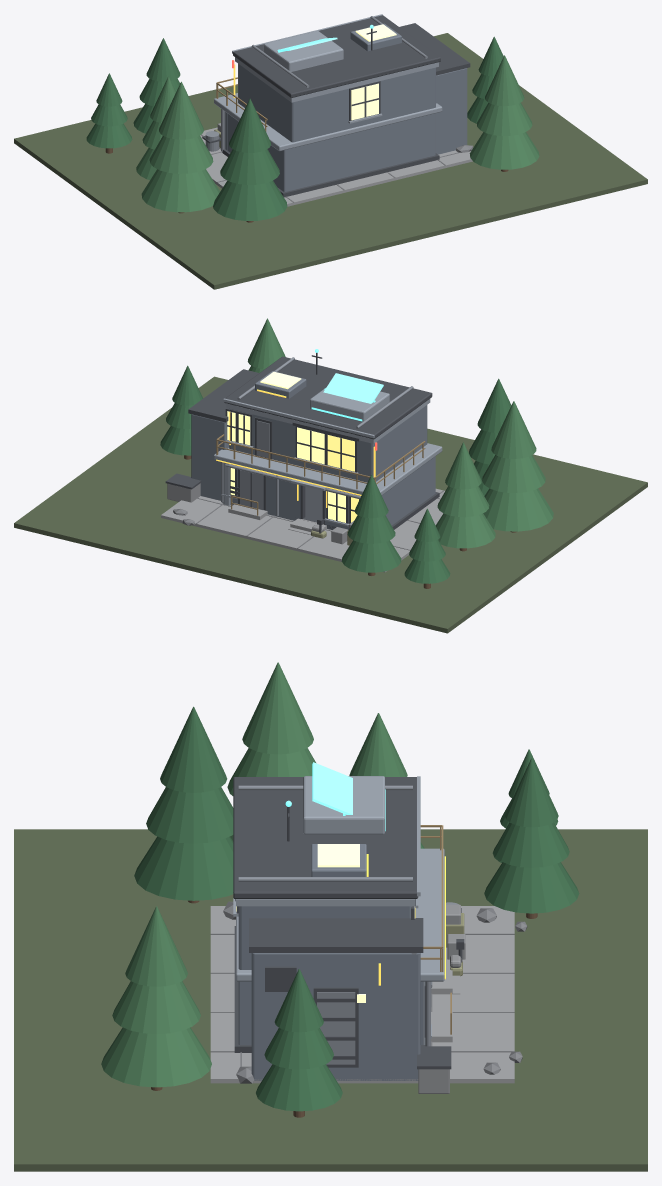
The model's file is forest-habitat.glb.
The picture shows the model from 3 angles, top to bottom: view 1: azimuth 30°, elevation 25°; view 2: azimuth 150°, elevation 25°; view 3: azimuth 270°, elevation 25°; orthographic projection. The views are drawn at different scales.
Visible parts, largest first — view 1: Ground, UF_Main, GF_WallBack, Roof_Slab, PineG_c1, Patio, SideMod, PineA_c1, PineD_c1, Sky_House, PineG_c2, Deck (+19 smaller); view 2: Ground, Roof_Slab, Patio, UF_Main, Deck, PineG_c1, SideMod, PineG_c2, GF_WallSide-, PineB_c1, PineC_c1, PineG_c3 (+26 smaller); view 3: Ground, Patio, Roof_Slab, SideMod, SideMod_Top, PineA_c1, PineD_c1, PineA_c2, PineC_c1, PineG_c3, PineD_c2, Sky_House (+20 smaller).
Boxes of the visible parts, x1,y1,x2,y2 form: Ground: (14,33,647,289); UF_Main: (238,63,435,142); GF_WallBack: (282,113,435,191); Roof_Slab: (233,15,440,97); PineG_c1: (141,169,220,212); Patio: (200,127,472,206); SideMod: (435,68,467,154); PineA_c1: (213,180,287,220); PineD_c1: (469,132,539,169); Sky_House: (263,31,343,72); PineG_c2: (149,135,213,173); Deck: (214,93,442,151); Ground: (14,376,647,633); Roof_Slab: (224,356,432,439); Patio: (161,488,444,572); UF_Main: (229,405,427,482); Deck: (214,443,442,495); PineG_c1: (483,488,553,531); SideMod: (191,414,229,500); PineG_c2: (482,455,545,492); GF_WallSide-: (382,457,433,525); PineB_c1: (435,513,495,548); PineC_c1: (341,540,401,572); PineG_c3: (491,401,536,458); Ground: (14,829,647,1171); Patio: (210,906,514,1083); Roof_Slab: (233,777,418,898); SideMod: (251,953,420,1080); SideMod_Top: (249,918,423,952); PineA_c1: (134,836,233,900); PineD_c1: (101,1027,211,1087); PineA_c2: (146,787,233,843); PineC_c1: (484,862,579,913); PineG_c3: (242,662,313,754); PineD_c2: (112,981,200,1034); Sky_House: (303,776,384,834).
Size of the model in its own units: 30 by 9.37 by 24.
